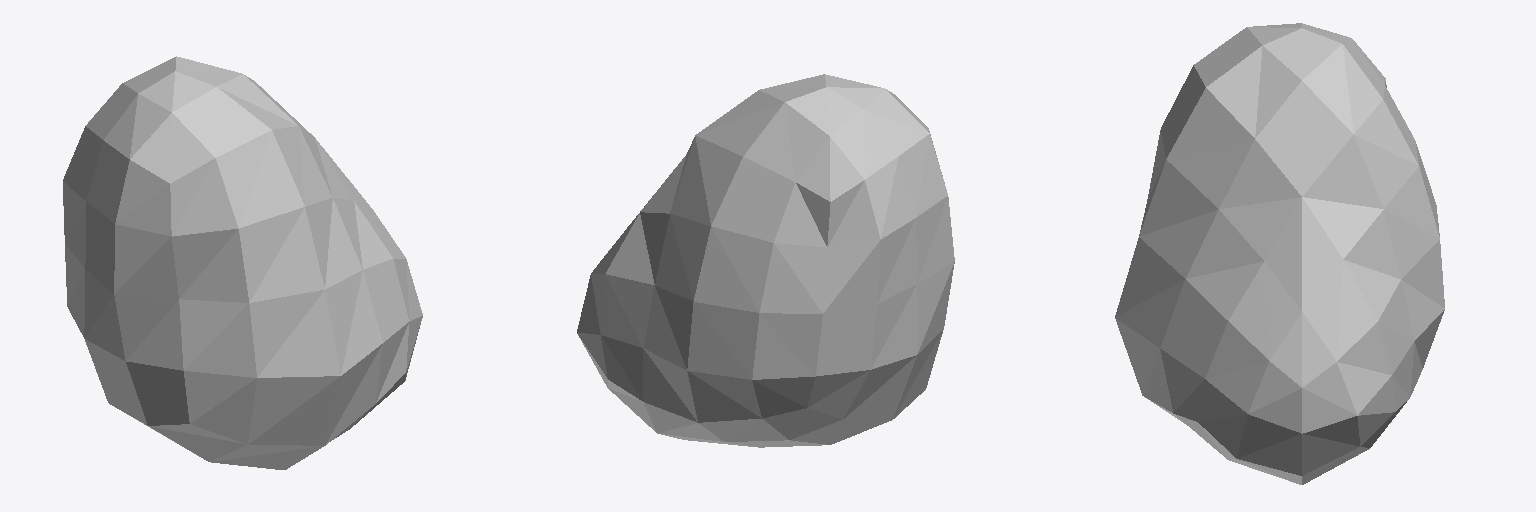
Rendered from rock3.obj.
3 views of the same model, side by side, from view 1: azimuth 30°, elevation 25°; view 2: azimuth 150°, elevation 25°; view 3: azimuth 270°, elevation 25° (orthographic).
Visible parts, largest first — view 1: rock.004; view 2: rock.004; view 3: rock.004.
Boxes of the visible parts, box(x1,y1,x2,y2) form: rock.004: box(63, 56, 422, 469); rock.004: box(577, 74, 954, 447); rock.004: box(1115, 23, 1444, 484).
Bounding box in the file's own units: 0.7163 × 0.807 × 0.6235.